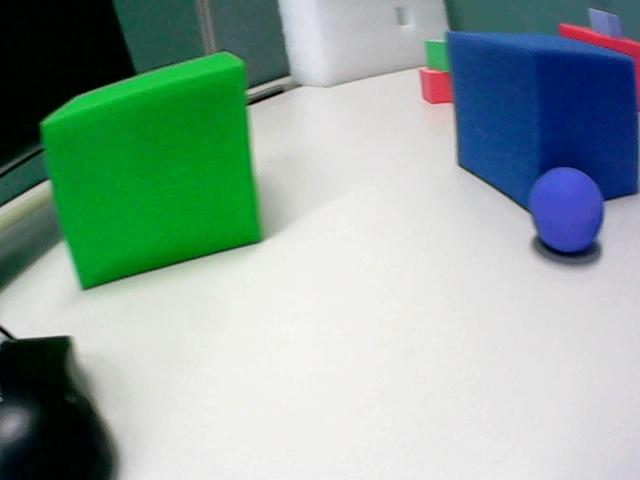blue_block: (448, 32, 637, 207), (588, 8, 623, 37), (588, 8, 608, 35), (609, 14, 624, 38)
red_block: (559, 24, 639, 98), (419, 68, 452, 103)
